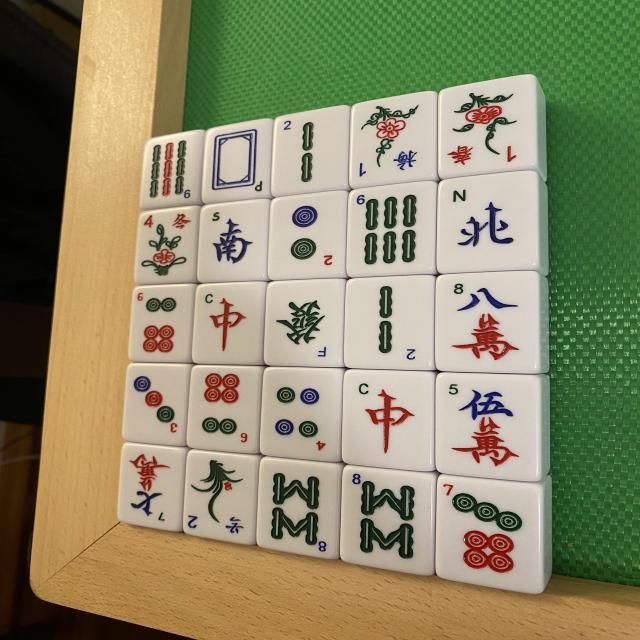bf1: (356, 104, 428, 180)
bf2: (177, 448, 256, 540)
bs1: (436, 79, 532, 182)
bs4: (135, 204, 200, 286)
hdg: (264, 278, 344, 369), (270, 286, 337, 364)
hdr: (341, 371, 430, 474), (192, 282, 264, 364)
hdw: (207, 120, 276, 202)
hwn: (439, 173, 538, 275)
hws: (208, 211, 263, 278)
sb2: (343, 274, 432, 371), (272, 106, 348, 198)
sb6: (349, 184, 434, 276)
sb8: (340, 464, 432, 575), (258, 456, 340, 559)
sb9: (144, 128, 207, 210)
sc5: (437, 374, 543, 484)
sc7: (122, 452, 174, 526)
sc8: (444, 280, 536, 371)
sd2: (270, 191, 350, 279)
sd3: (125, 364, 190, 444)
sd4: (260, 366, 338, 462)
sd6: (188, 368, 262, 457), (128, 286, 194, 366)
sd7: (432, 480, 537, 597)
